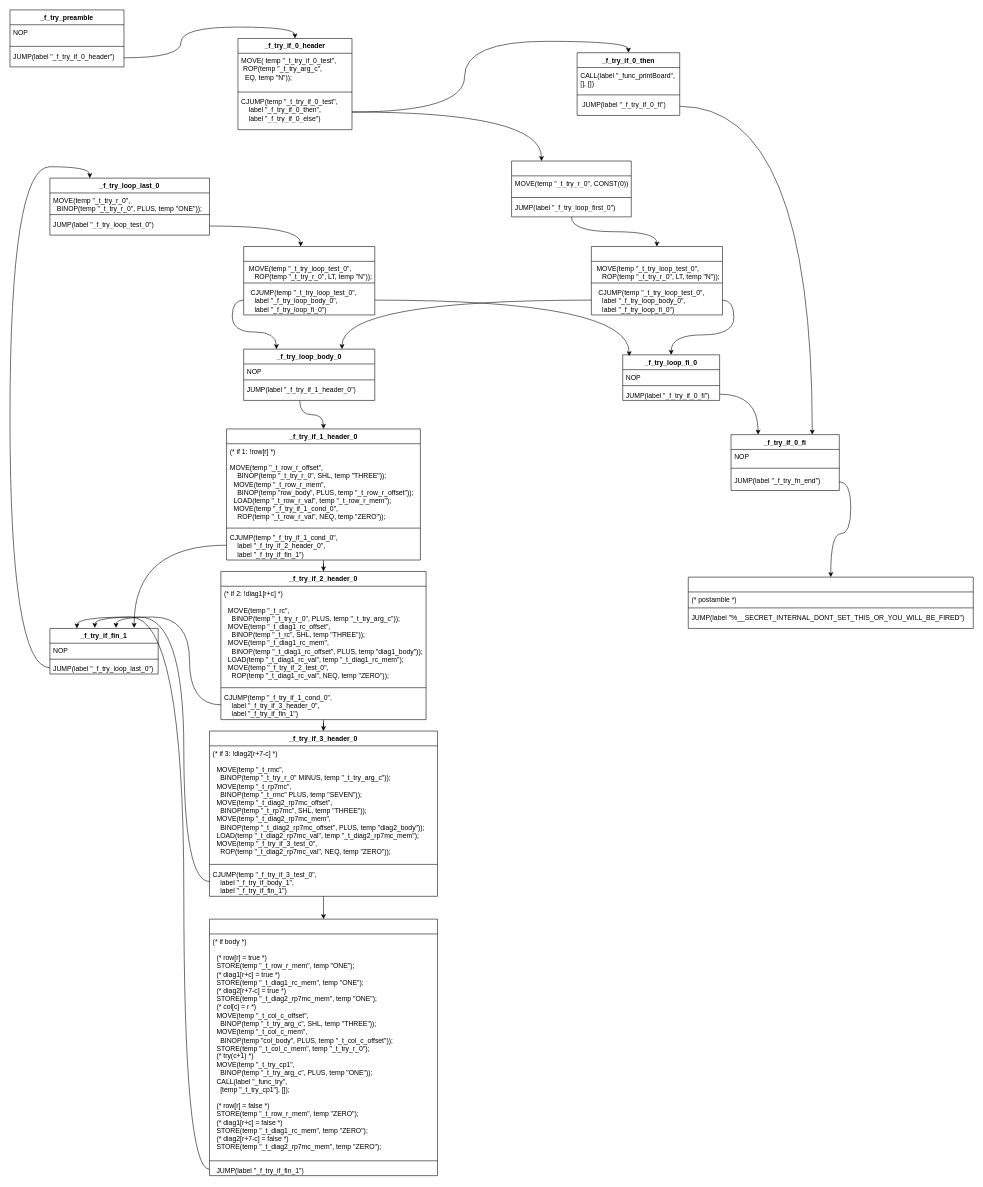
Some shapes in this 983 by 1187 pixel diagram are drawn without their labels. The box of each missing label's shape, as (x1, y1, x2, y2) in pixels:
_f_try_fn_end: (688, 577, 973, 628)
_f_try_if_0_else: (511, 160, 631, 217)
_f_try_if_body_1: (209, 919, 437, 1176)
_f_try_loop_first_0: (591, 246, 722, 315)
_f_try_loop_test_0: (243, 246, 375, 315)
